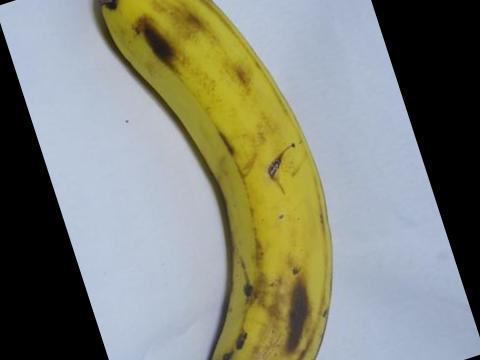ripe: (78, 0, 360, 359)
